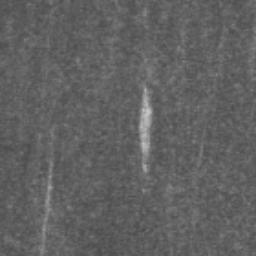White rust: (137, 79, 154, 176), (39, 155, 55, 254)
